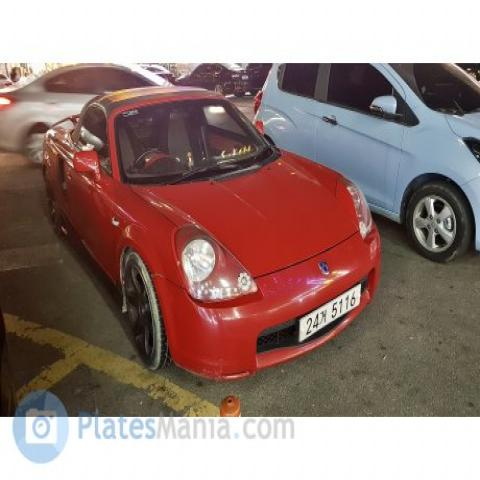LP: (294, 271, 368, 353)
